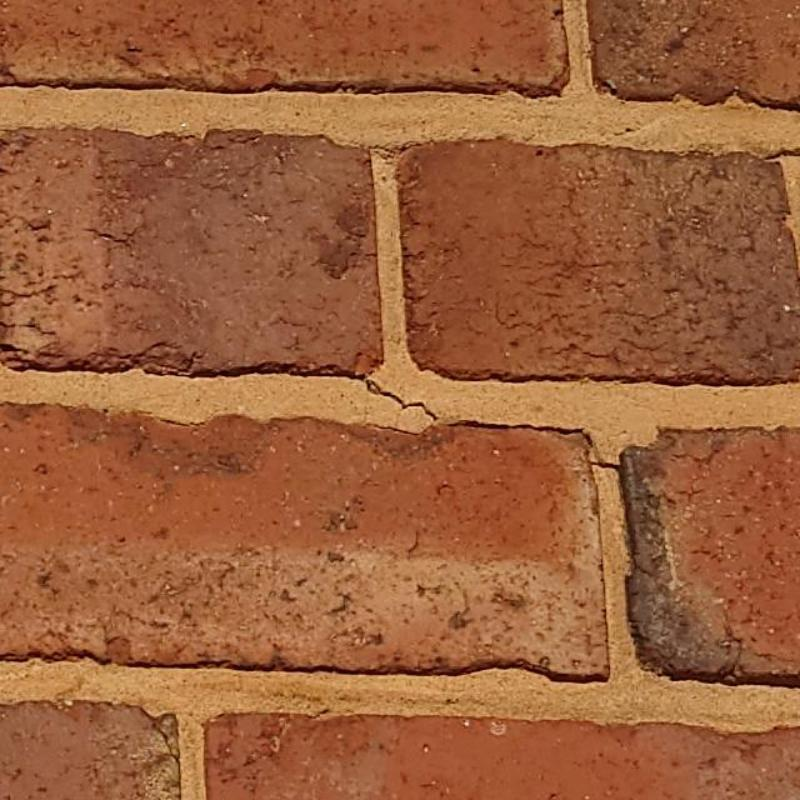pothole: (344, 374, 437, 419), (446, 420, 594, 446), (590, 450, 625, 475), (762, 150, 799, 160)
